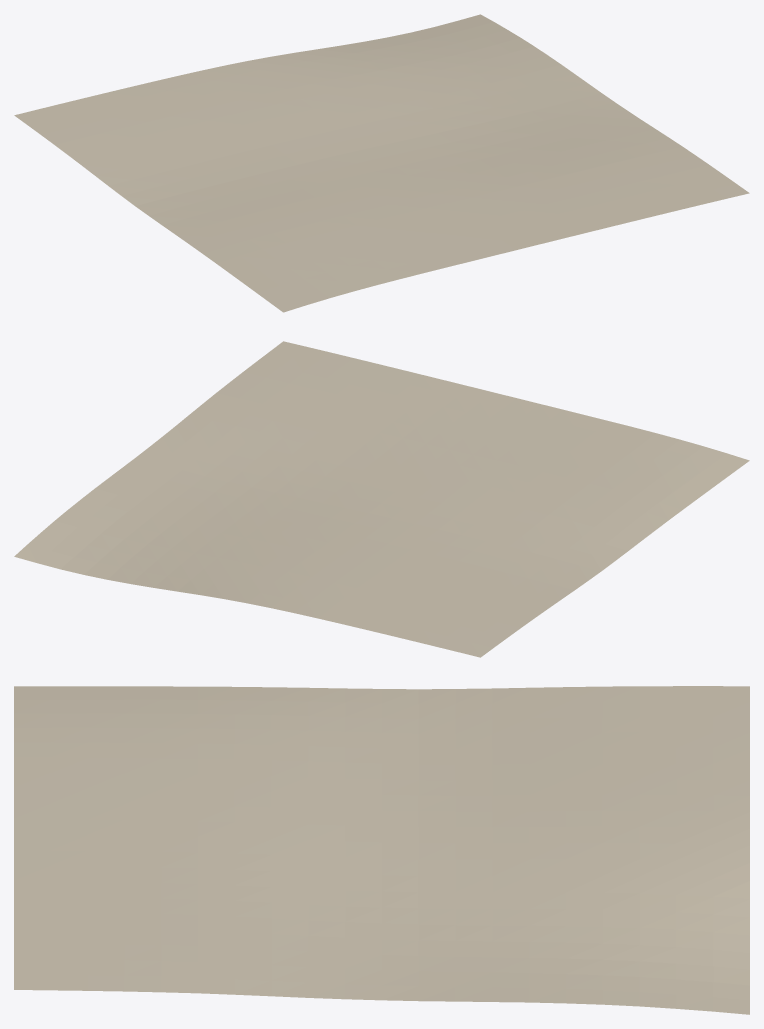
The model's file is bolak_-22_8.glb.
3 views of the same model, one above another, from view 1: azimuth 30°, elevation 25°; view 2: azimuth 150°, elevation 25°; view 3: azimuth 270°, elevation 25° (orthographic). The views are drawn at different scales.
Visible parts, largest first — view 1: Yer_Tuproq-col; view 2: Yer_Tuproq-col; view 3: Yer_Tuproq-col.
Part boxes in pixels (bbox=[...]): Yer_Tuproq-col: bbox=[14, 14, 749, 312]; Yer_Tuproq-col: bbox=[14, 341, 749, 657]; Yer_Tuproq-col: bbox=[14, 686, 749, 1014].
Size of the model in its own units: 400 by 16.42 by 400.
